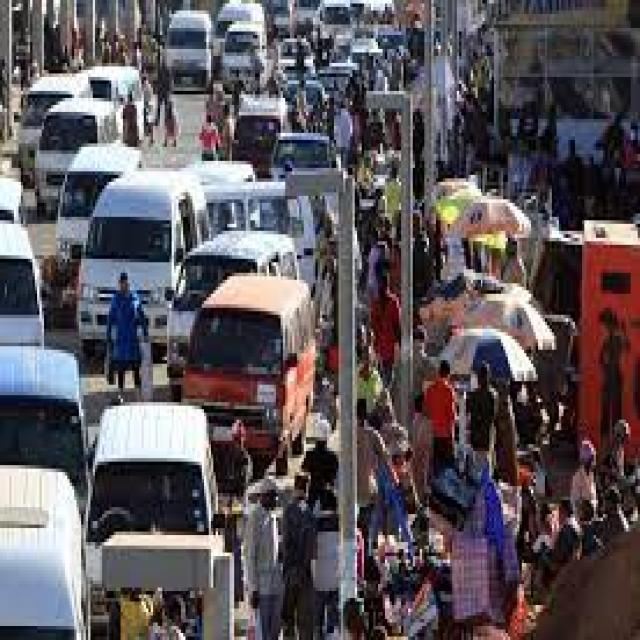MiniBus taxi: (178, 283, 322, 472), (77, 178, 183, 364), (165, 7, 213, 98), (220, 24, 264, 94)
Pedestrians: (100, 269, 150, 406)
